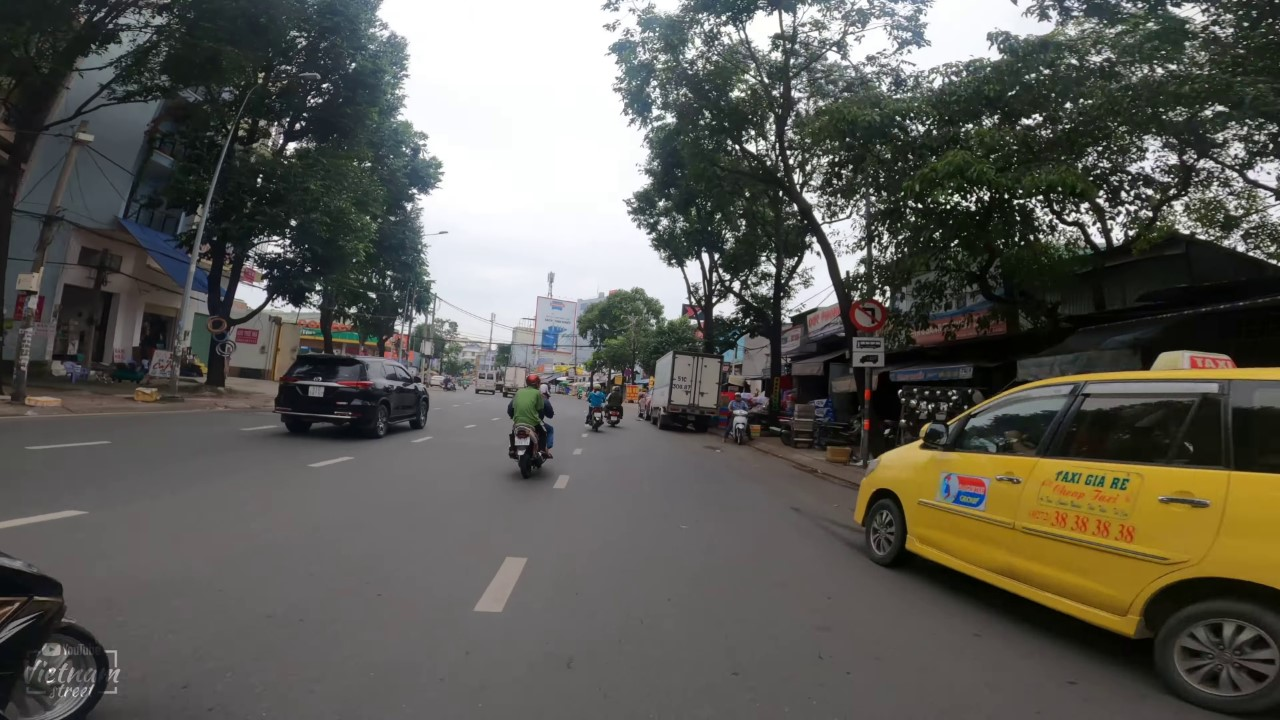cam_re_trai: (850, 297, 888, 334)
